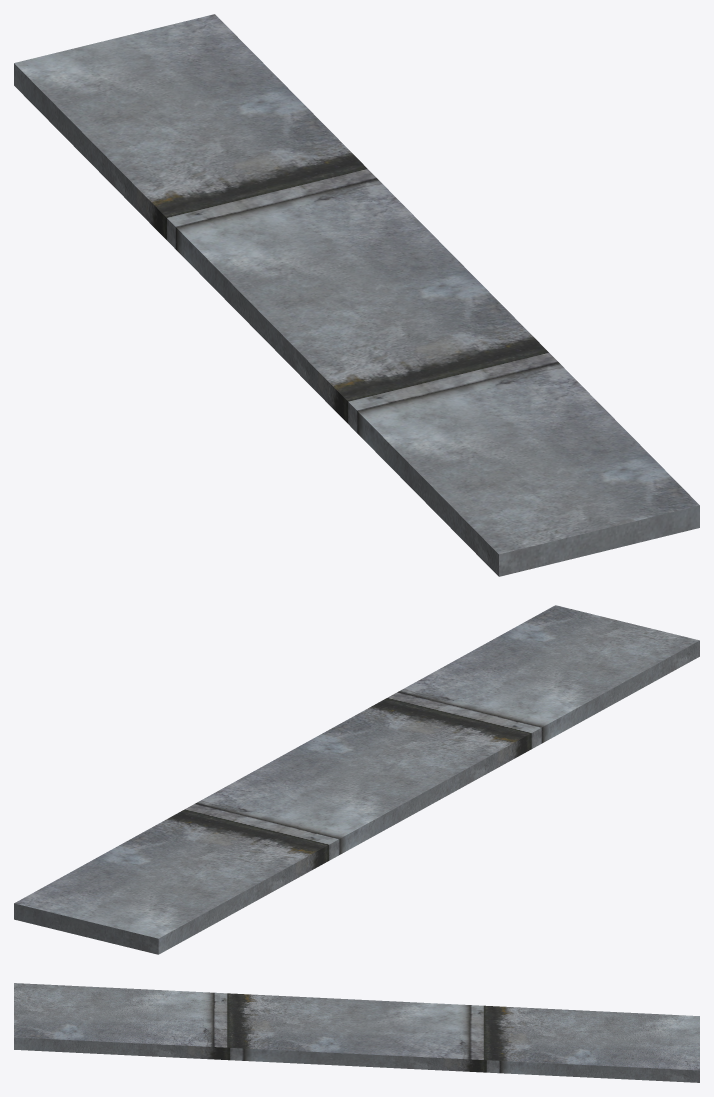
File: Urban_RoadSideFull25_Model.fbx
The picture shows the model from 3 angles, top to bottom: view 1: azimuth 30°, elevation 25°; view 2: azimuth 150°, elevation 25°; view 3: azimuth 270°, elevation 25°; orthographic projection. The views are drawn at different scales.
Parts seen in each view (by area): view 1: Urban_RoadSideFull25_Mesh; view 2: Urban_RoadSideFull25_Mesh; view 3: Urban_RoadSideFull25_Mesh.
Boxes of the visible parts, left/top/right/bottom form: Urban_RoadSideFull25_Mesh: left=14, top=14, right=699, bottom=576; Urban_RoadSideFull25_Mesh: left=14, top=605, right=699, bottom=954; Urban_RoadSideFull25_Mesh: left=14, top=983, right=699, bottom=1082.
Bounding box in the file's own units: 5 × 0.4 × 16.
